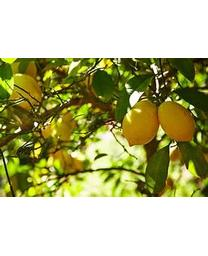lemon: (124, 100, 160, 146), (157, 102, 196, 141)
